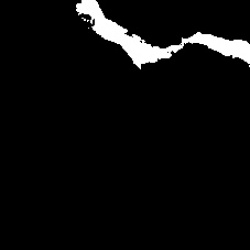crack: (78, 3, 248, 66)
